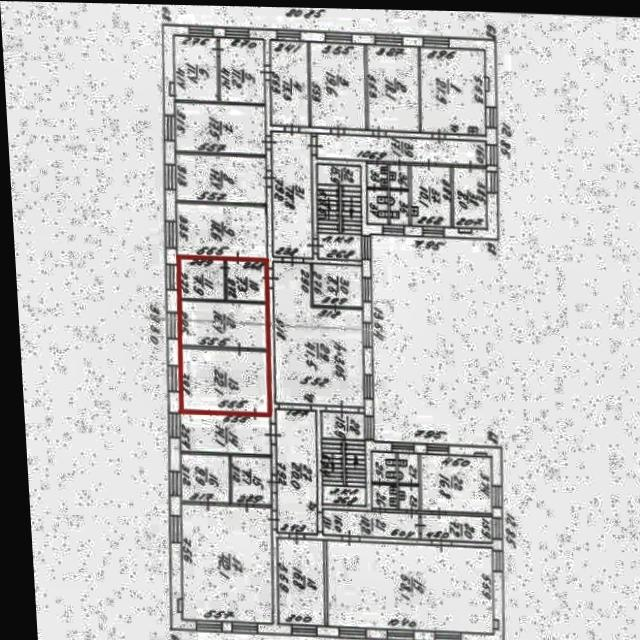room: (328, 540, 500, 632), (275, 258, 367, 408), (184, 502, 278, 625), (421, 43, 487, 135), (183, 347, 275, 412), (278, 406, 323, 533), (272, 130, 316, 258), (317, 132, 489, 164), (176, 202, 271, 256), (310, 40, 366, 130), (174, 102, 268, 153), (367, 42, 420, 132), (317, 161, 365, 260), (176, 153, 269, 202), (324, 408, 370, 505), (422, 452, 498, 510), (182, 299, 273, 347), (281, 537, 329, 626), (183, 411, 276, 453), (270, 38, 310, 126), (219, 35, 264, 103), (174, 34, 218, 101), (412, 162, 454, 225), (185, 451, 233, 504), (327, 509, 424, 535), (314, 261, 367, 305), (454, 164, 489, 226), (235, 453, 276, 504), (181, 257, 228, 299), (425, 512, 497, 539), (229, 257, 268, 301), (368, 186, 390, 223), (375, 449, 400, 481), (391, 188, 411, 223), (375, 483, 401, 507), (402, 451, 422, 482), (403, 483, 424, 508), (368, 161, 389, 186), (390, 162, 410, 187)
